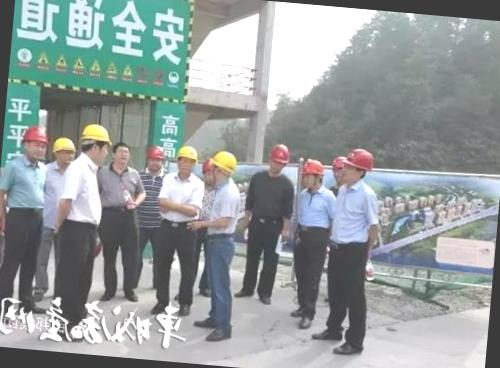no_helmet: (112, 141, 134, 172)
